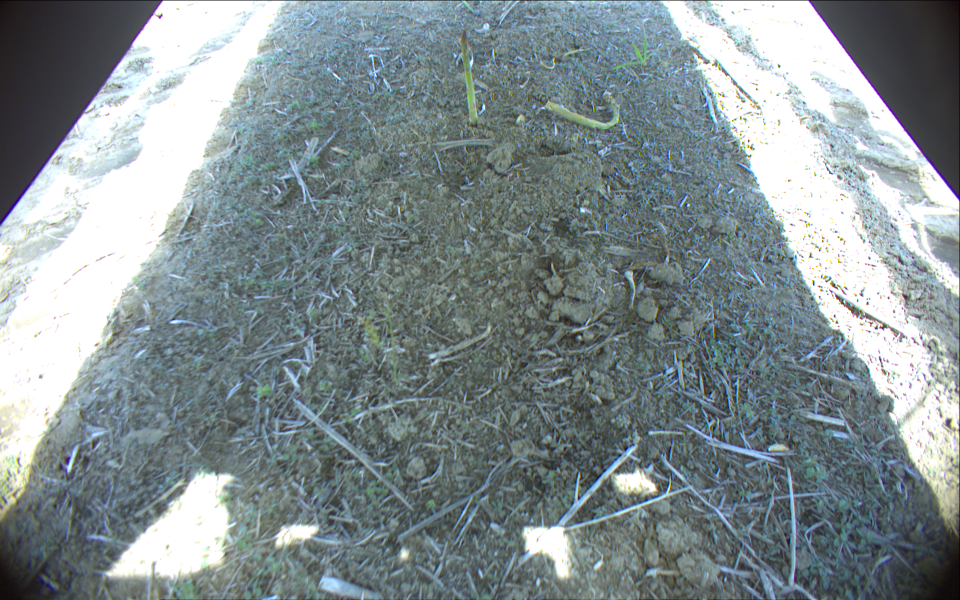aspa: (546, 90, 618, 132), (460, 31, 479, 122), (538, 47, 593, 72)
